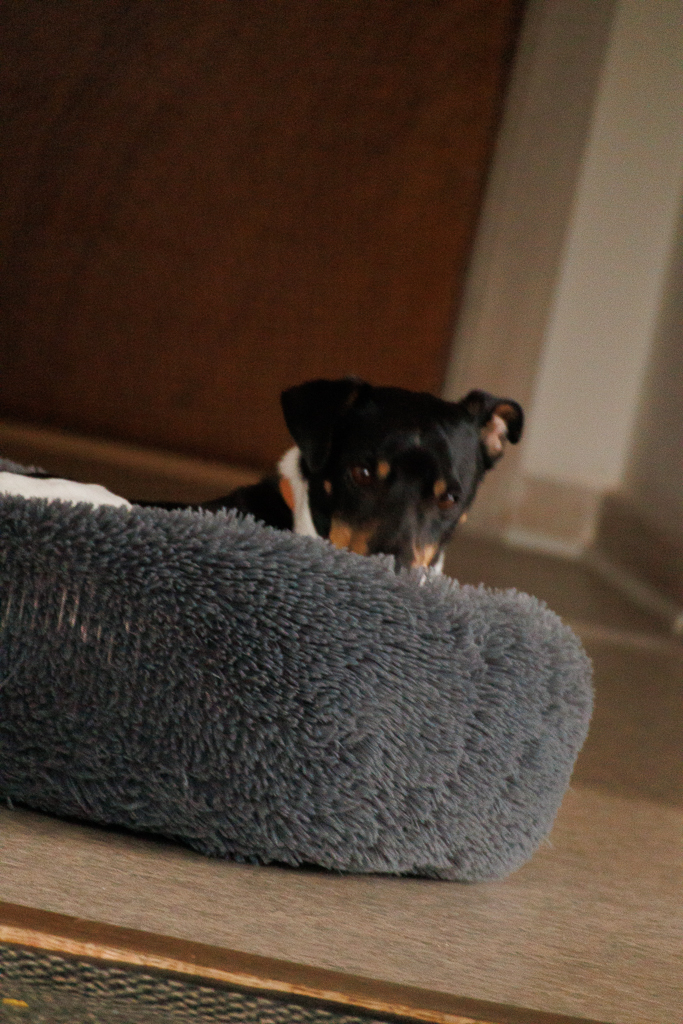Dog: (0, 366, 534, 588)
